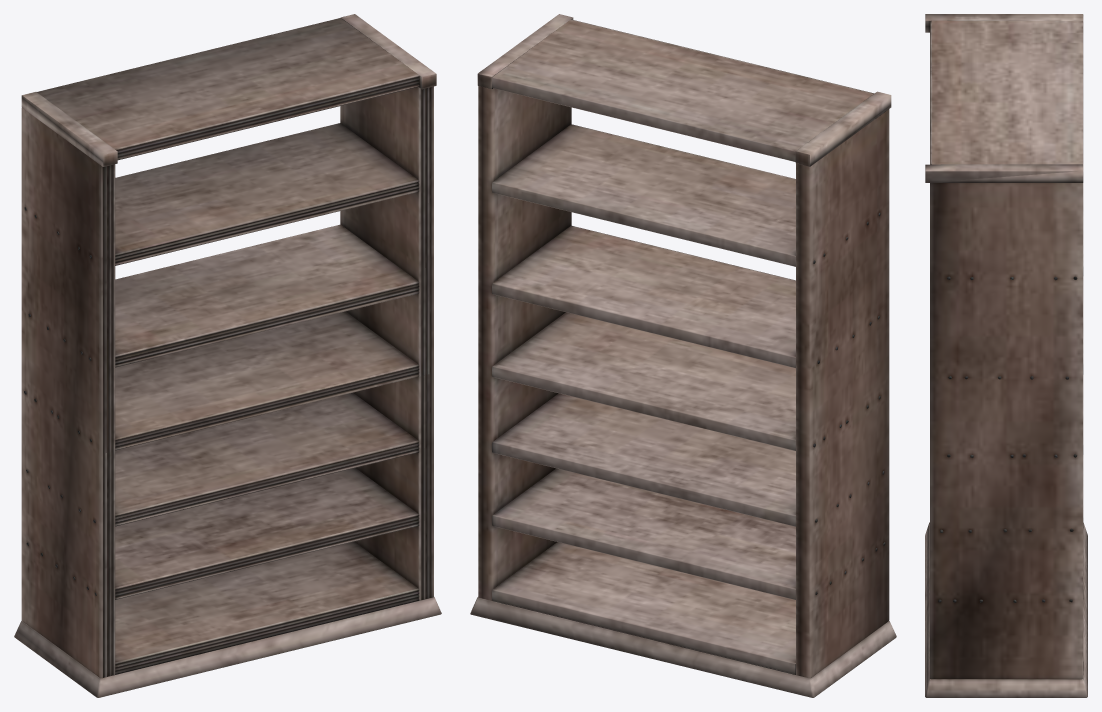
File: wooden_bookshelf_worn.glb
3 renders of one model, left to right at view 1: azimuth 30°, elevation 25°; view 2: azimuth 150°, elevation 25°; view 3: azimuth 270°, elevation 25°, orthographic. The views are drawn at different scales.
Visible parts, largest first — view 1: wooden_bookshelf_worn; view 2: wooden_bookshelf_worn; view 3: wooden_bookshelf_worn.
Boxes of the visible parts, x1,y1,x2,y2 form: wooden_bookshelf_worn: (14,14,441,697); wooden_bookshelf_worn: (470,14,896,697); wooden_bookshelf_worn: (925,14,1087,697).
Bounding box in the file's own units: 1.37 × 2.06 × 0.5814.
Materials: 1 (1 with a texture image).
